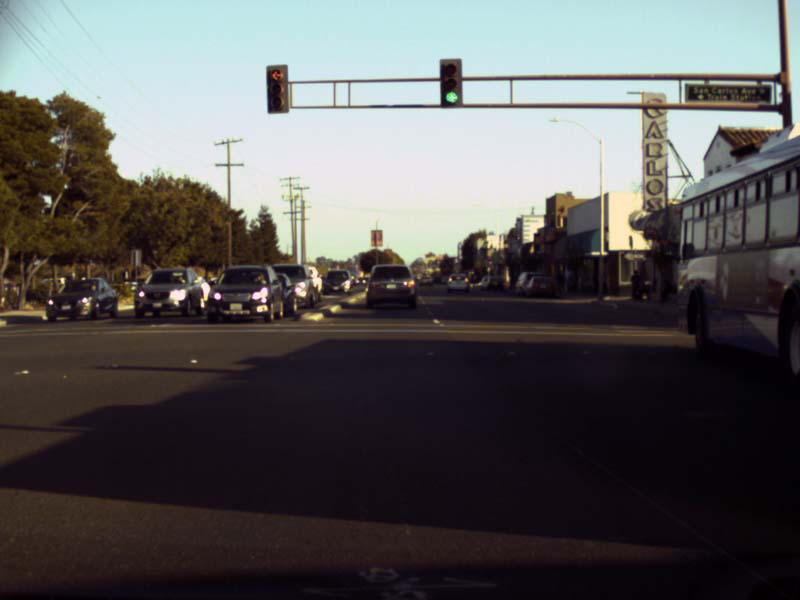Green: (439, 58, 462, 104)
Red: (266, 66, 288, 111)
